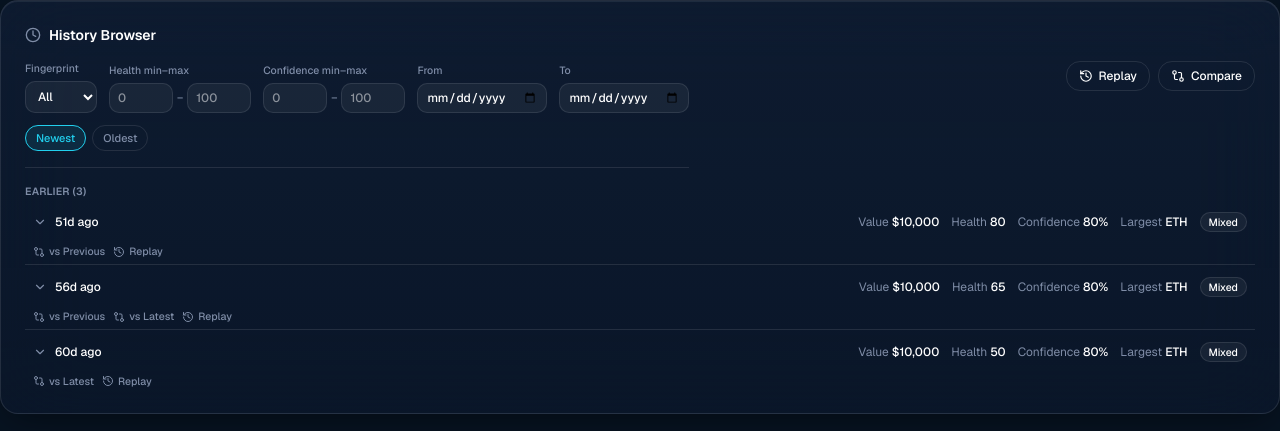
it: HistoryBrowserSection — Replay › NEXT: steps forward exactly one real snapshot
Click the button "Replay" in the row of "From".
click(1108, 76)  # box [1066, 61, 1150, 91]
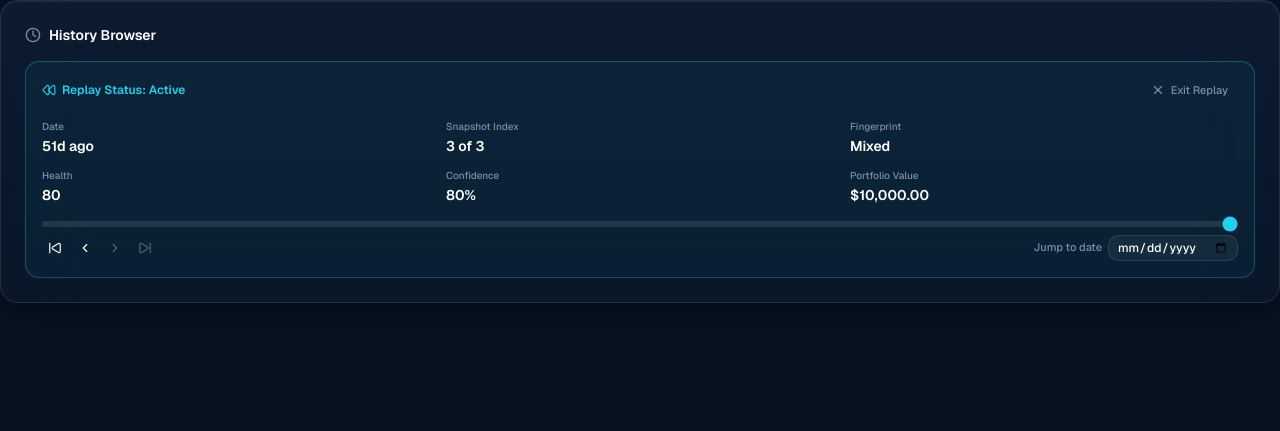
Click the button named "First snapshot".
click(55, 248)  # box [42, 234, 68, 260]
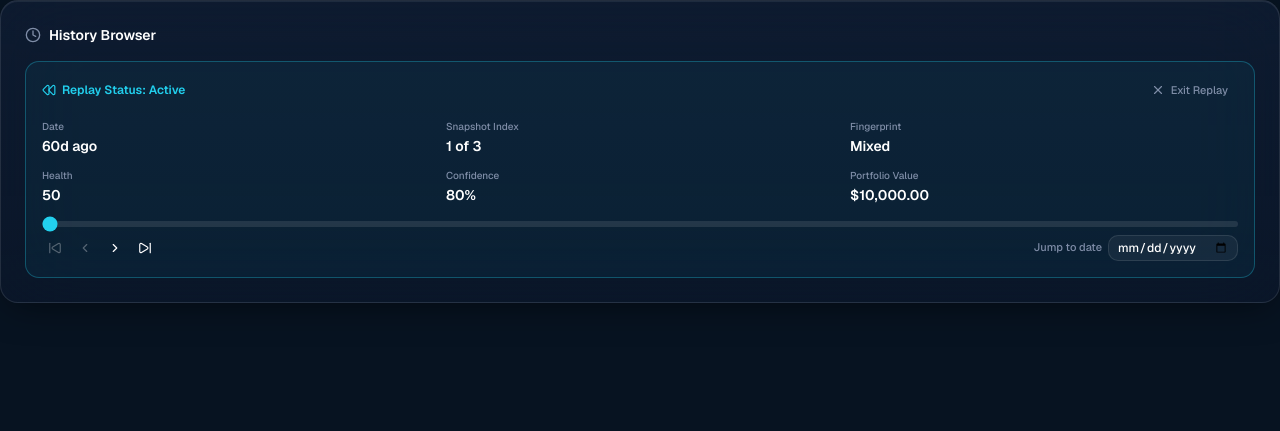
Click the button named "Next snapshot".
click(115, 248)  # box [102, 234, 128, 260]
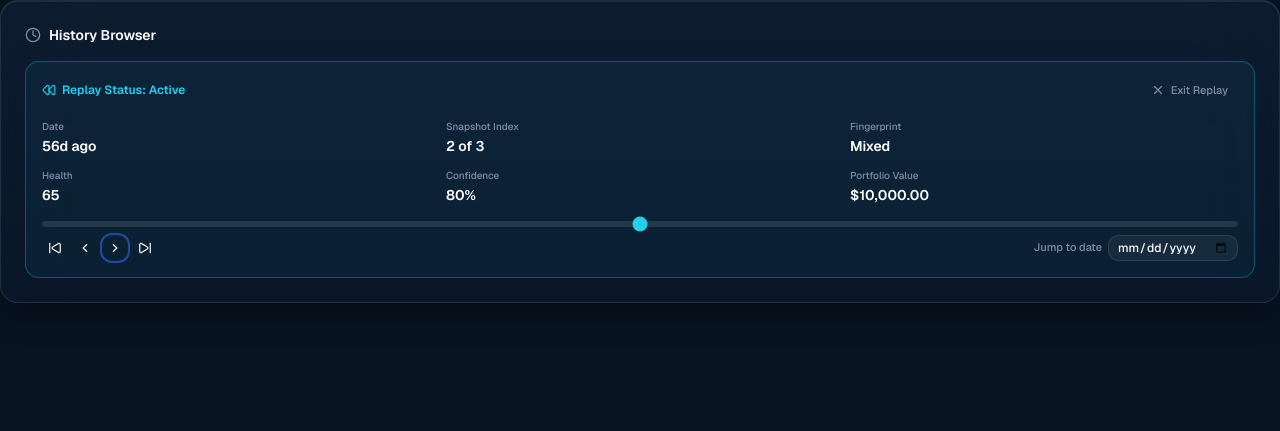
Expected: the text "2 of 3" is shown, [446, 136, 484, 154]
